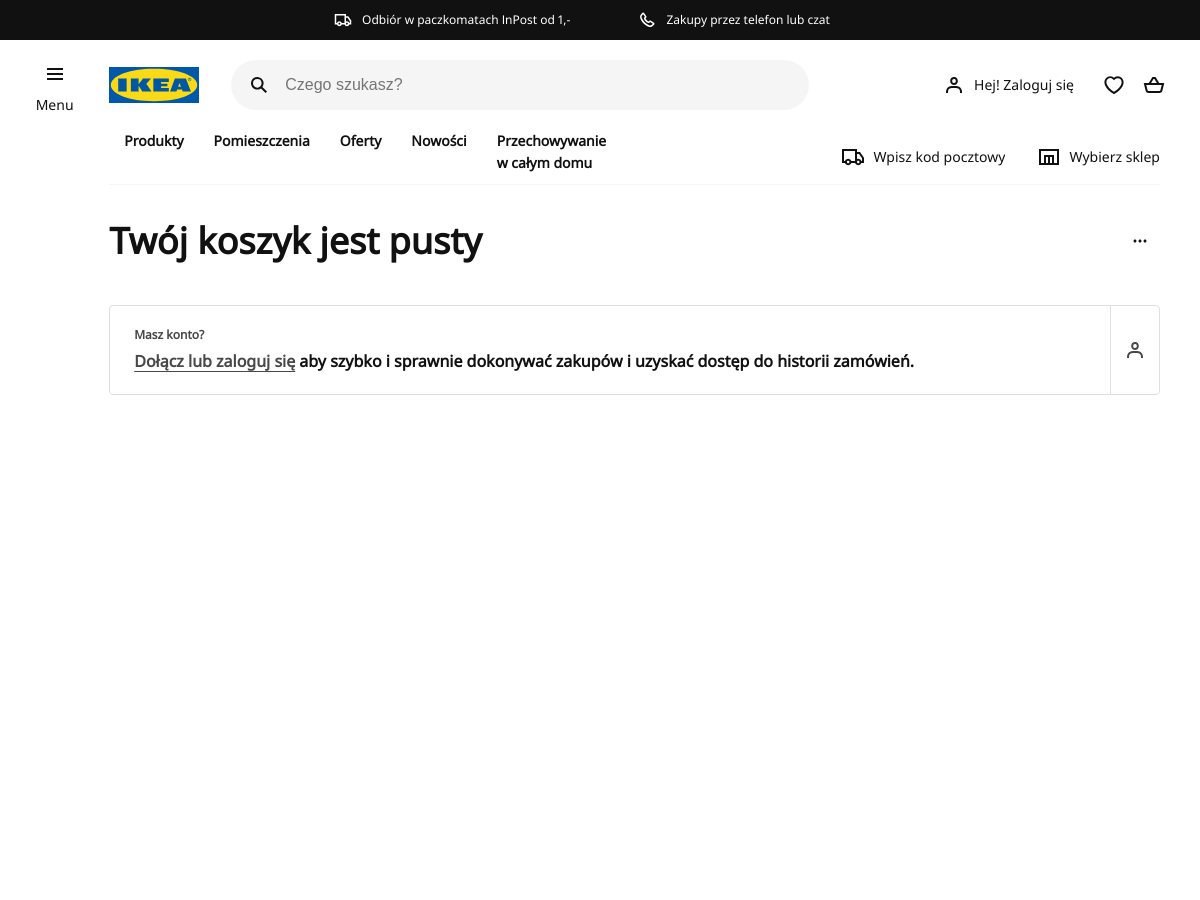
Test case: Shopping Cart Page › should handle empty shopping cart
Expected: the element with test id "shopping-cart-empty" is shown, [109,305,1160,395]
Click the button with test id "shopping-cart-menu-btn" at (1140, 241), box [1120,221,1160,261]
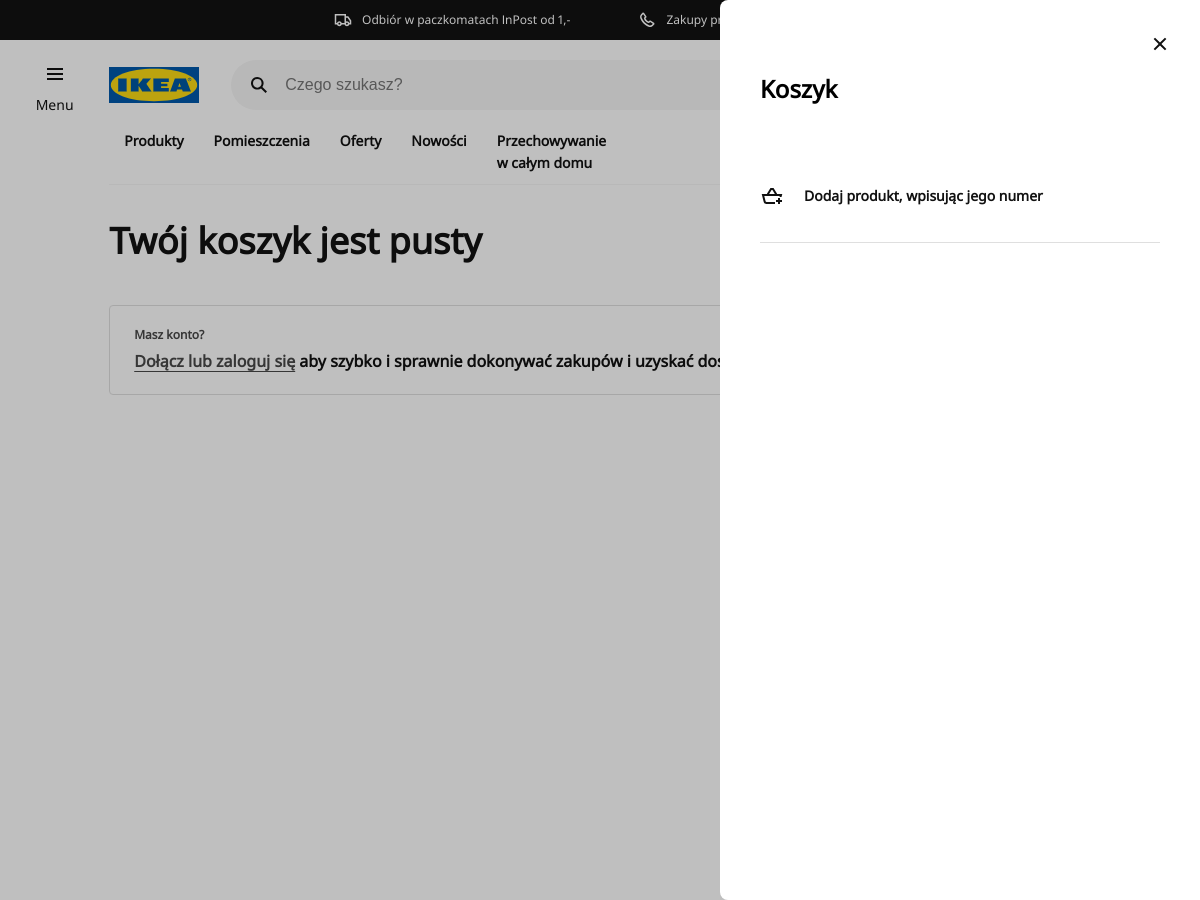
Expected: the dialog with test id "modal" is shown, [720,0,1199,899]
Expected: the heading "Koszyk" is shown, [760,72,837,105]
